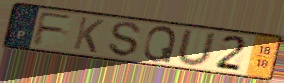2: (211, 34, 250, 73)
F: (31, 11, 75, 47)
K: (71, 15, 106, 55)
Q: (141, 25, 179, 64)
S: (108, 20, 144, 59)
U: (176, 29, 218, 68)
